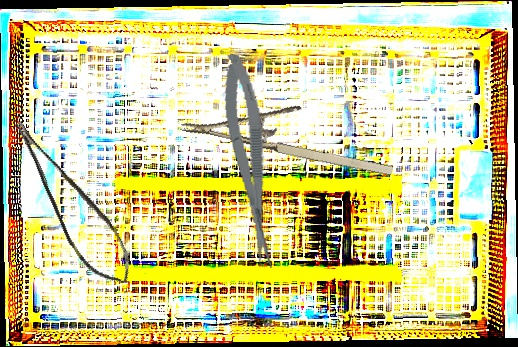Micro Scissor: (8, 103, 142, 298), (217, 51, 280, 272)
Needle Holder: (179, 79, 403, 183)
